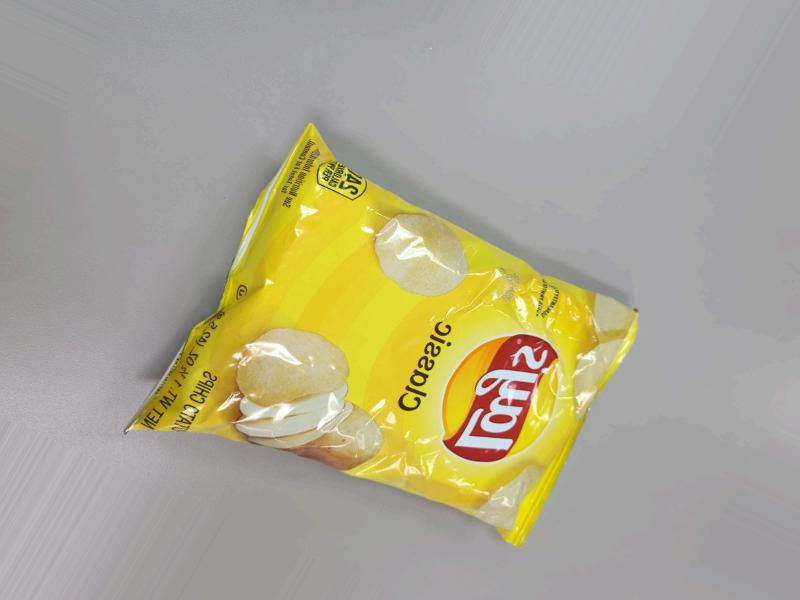lays: (200, 116, 652, 555)
